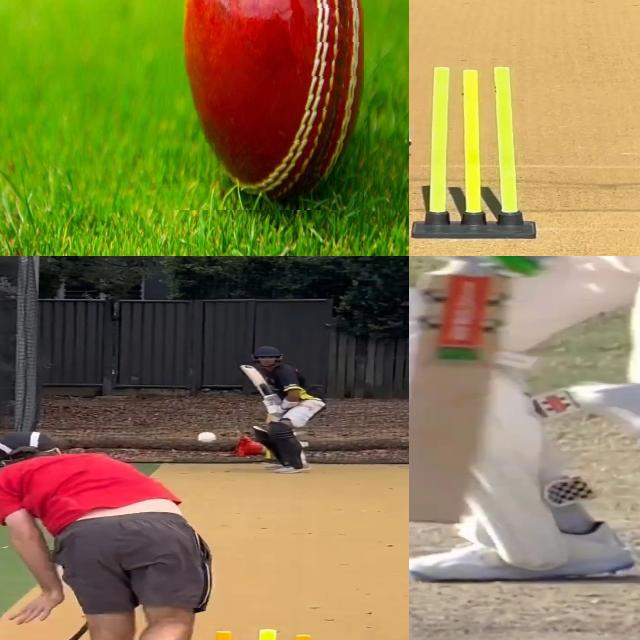Cricket ball: (160, 0, 363, 209), (196, 429, 220, 444)
Stumps: (417, 64, 529, 242)
